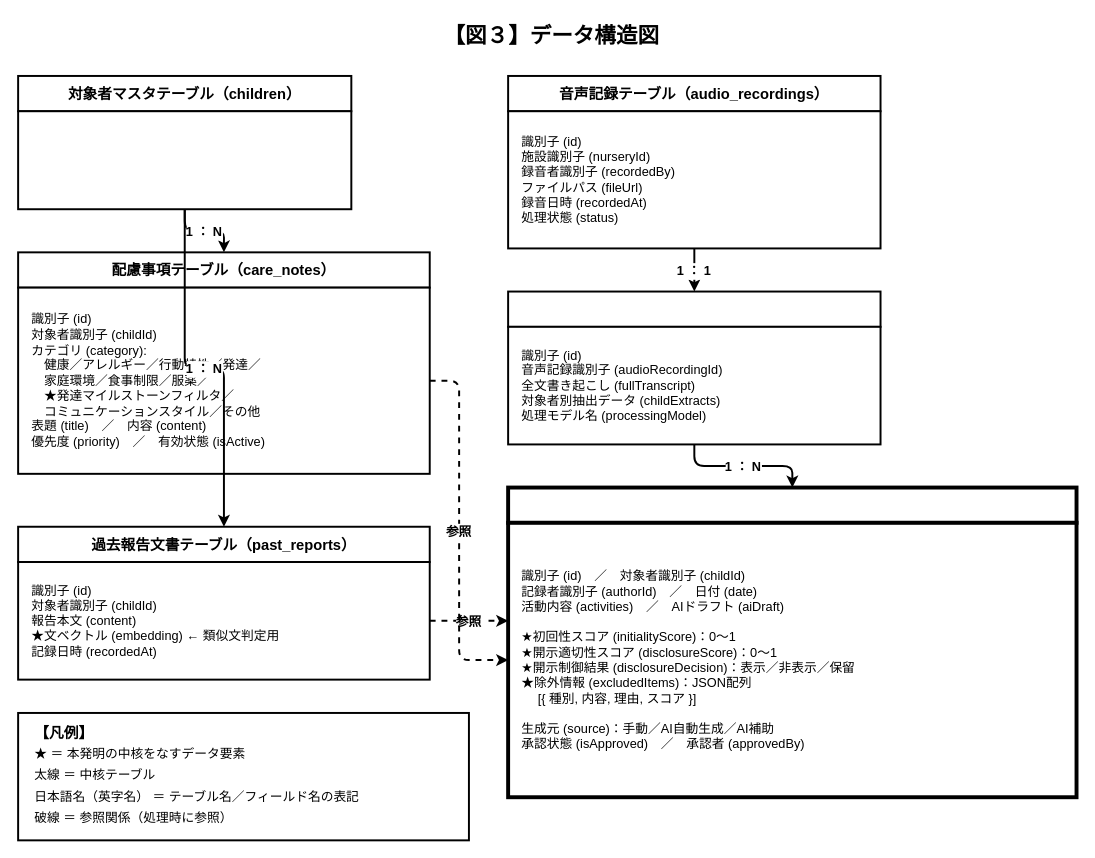
Some shapes in this 1095 by 858 pixel diagram are drawn without their labels. The shapes that lost their labels are listed below. From the top down, each one's centre as x and y in pixels, then its label:
At (x=184, y=160): "識別子 (id) 氏名 (name) 施設識別子 (nurseryId) クラス識別子 (classId)".
At (x=694, y=308): "音声書き起こしテーブル（audio_transcripts）".
At (x=792, y=504): "★報告文書テーブル（contact_book_entries）【中核】".
